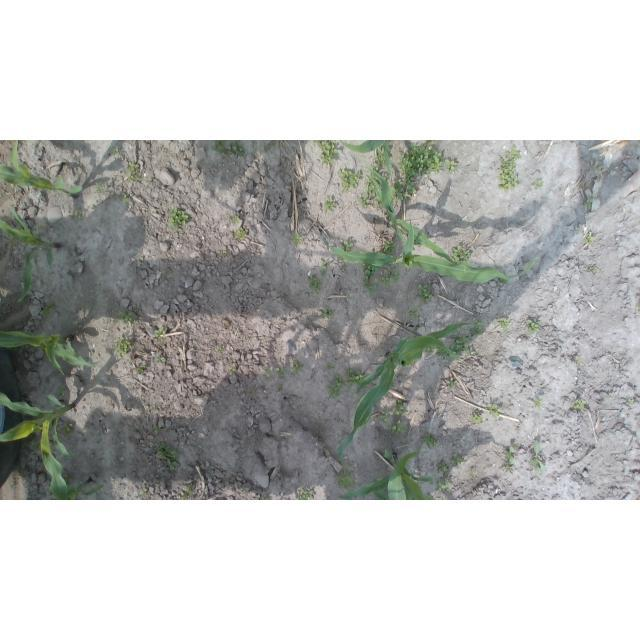Maize: (337, 321, 481, 463), (318, 216, 538, 285), (362, 168, 457, 268), (2, 392, 75, 497), (1, 206, 64, 304), (331, 449, 441, 500), (1, 140, 82, 201), (0, 330, 104, 376), (338, 141, 392, 179), (61, 477, 108, 500)
Weeds: (360, 141, 459, 207), (362, 239, 400, 294), (433, 322, 484, 362), (498, 144, 522, 190), (150, 438, 179, 470), (313, 141, 335, 168), (435, 461, 453, 491), (338, 461, 355, 491), (167, 206, 188, 230), (126, 162, 150, 183), (338, 170, 363, 190), (451, 244, 474, 265), (336, 242, 354, 267), (530, 443, 544, 475), (213, 141, 245, 155), (343, 369, 365, 389), (28, 435, 51, 454), (111, 311, 138, 325), (503, 446, 518, 471), (112, 338, 132, 354), (329, 375, 342, 398), (417, 285, 432, 304), (419, 433, 440, 446), (486, 403, 502, 420), (325, 195, 340, 213), (93, 182, 113, 195), (393, 400, 407, 418), (390, 421, 408, 435), (57, 422, 75, 436), (43, 302, 58, 318), (292, 362, 306, 378), (496, 316, 512, 329), (453, 453, 466, 468), (308, 276, 320, 291), (409, 309, 421, 324), (155, 328, 168, 341), (302, 489, 316, 500), (321, 309, 335, 320), (532, 180, 546, 191), (583, 199, 595, 211), (571, 400, 587, 409), (528, 320, 541, 331), (320, 262, 328, 279), (73, 210, 84, 222), (471, 413, 483, 424), (119, 194, 131, 205), (533, 399, 544, 410), (291, 233, 302, 243), (235, 227, 245, 237), (277, 366, 286, 377), (379, 411, 390, 420), (590, 265, 601, 274), (138, 488, 148, 497), (625, 397, 635, 406), (244, 394, 253, 403), (182, 488, 191, 497), (447, 378, 456, 387), (155, 357, 168, 363), (586, 236, 596, 243), (230, 363, 236, 374), (137, 367, 146, 374), (229, 216, 238, 223), (112, 150, 121, 157), (151, 404, 158, 413), (220, 251, 228, 258), (215, 346, 221, 352), (263, 368, 267, 376), (574, 357, 578, 362)
